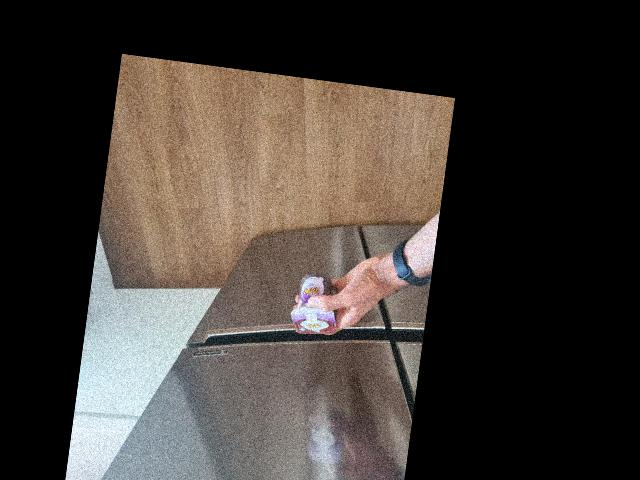milky: (287, 267, 340, 339)
